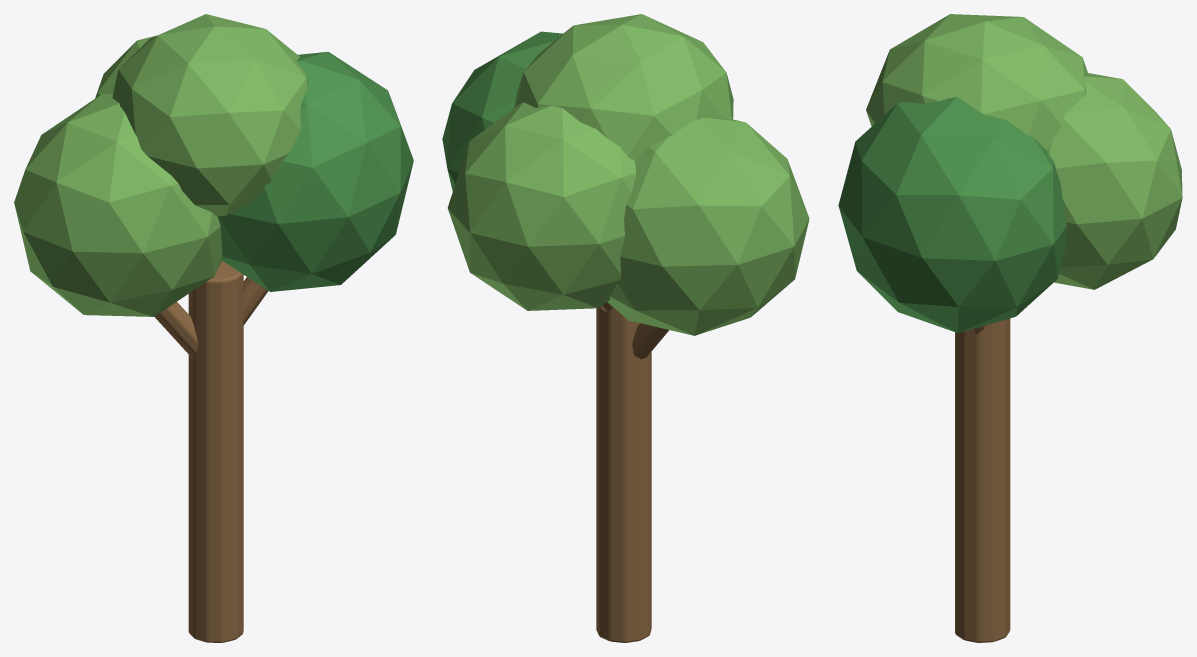
The model's file is broadleaf_young_4p7m.glb.
3 renders of one model, left to right at view 1: azimuth 30°, elevation 25°; view 2: azimuth 150°, elevation 25°; view 3: azimuth 270°, elevation 25°, orthographic.
Visible parts, largest first — view 1: broadleaf_young_canopy_01, broadleaf_young_canopy_02, broadleaf_young_canopy_04, broadleaf_young_trunk, broadleaf_young_branch_01, broadleaf_young_canopy_03, broadleaf_young_branch_02; view 2: broadleaf_young_canopy_01, broadleaf_young_canopy_03, broadleaf_young_canopy_04, broadleaf_young_trunk, broadleaf_young_canopy_02, broadleaf_young_branch_01; view 3: broadleaf_young_canopy_02, broadleaf_young_canopy_03, broadleaf_young_canopy_04, broadleaf_young_trunk.
Boxes of the visible parts, x1,y1,x2,y2 form: broadleaf_young_canopy_01: [14, 94, 222, 316]; broadleaf_young_canopy_02: [218, 51, 413, 291]; broadleaf_young_canopy_04: [112, 14, 308, 216]; broadleaf_young_trunk: [188, 261, 243, 642]; broadleaf_young_branch_01: [154, 302, 197, 357]; broadleaf_young_canopy_03: [95, 35, 156, 98]; broadleaf_young_branch_02: [242, 277, 268, 325]; broadleaf_young_canopy_01: [607, 117, 809, 335]; broadleaf_young_canopy_03: [447, 102, 636, 310]; broadleaf_young_canopy_04: [514, 14, 733, 160]; broadleaf_young_trunk: [596, 307, 651, 642]; broadleaf_young_canopy_02: [442, 31, 562, 191]; broadleaf_young_branch_01: [632, 323, 668, 359]; broadleaf_young_canopy_02: [838, 97, 1066, 332]; broadleaf_young_canopy_03: [1047, 73, 1182, 289]; broadleaf_young_canopy_04: [866, 14, 1088, 150]; broadleaf_young_trunk: [955, 318, 1010, 642].
Bounding box in the file's own units: 2.91 × 4.75 × 2.42.
